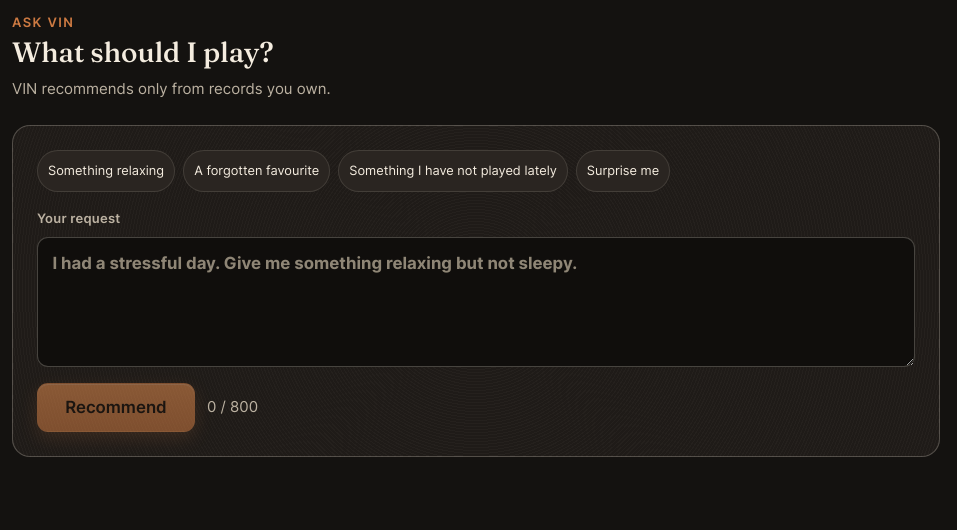
Test case: CuratorPanel › renders a retryable error and keeps Recommend enabled
Type "x" into the text box labelled "Your request" at [476, 302], box [37,237,915,367]
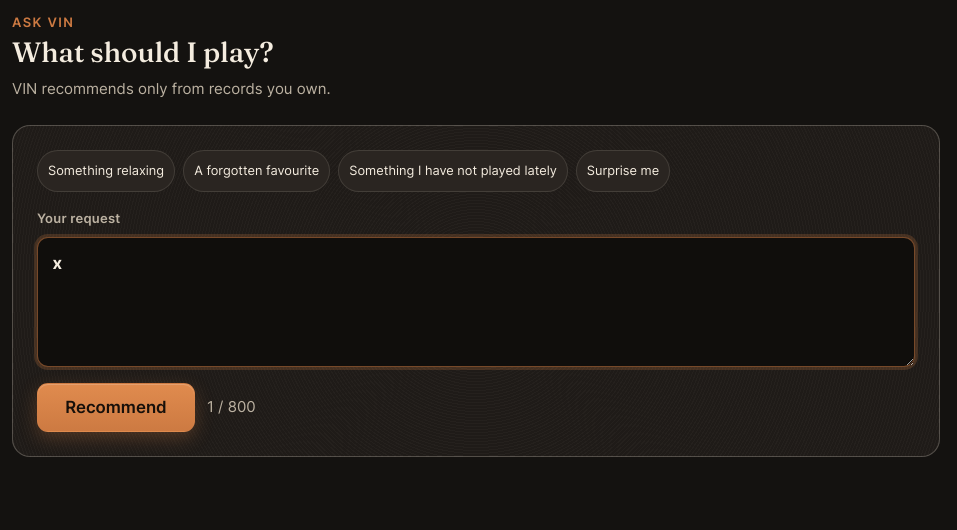
Click the button "Recommend" at [116, 408], box [37,383,195,432]
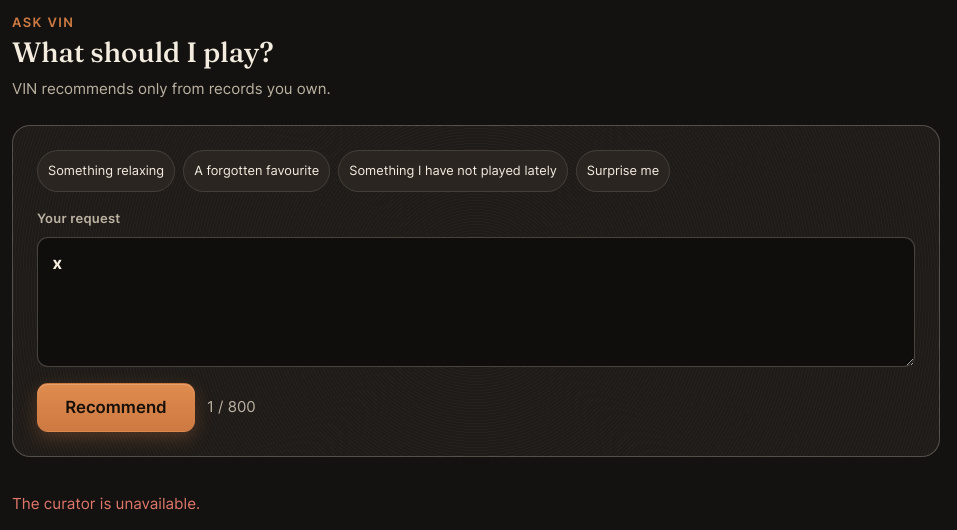
Expected: the button "Recommend" is enabled, [37,383,195,432]
Expected: the message reads "The curator is unavailable.", [12,494,200,513]
